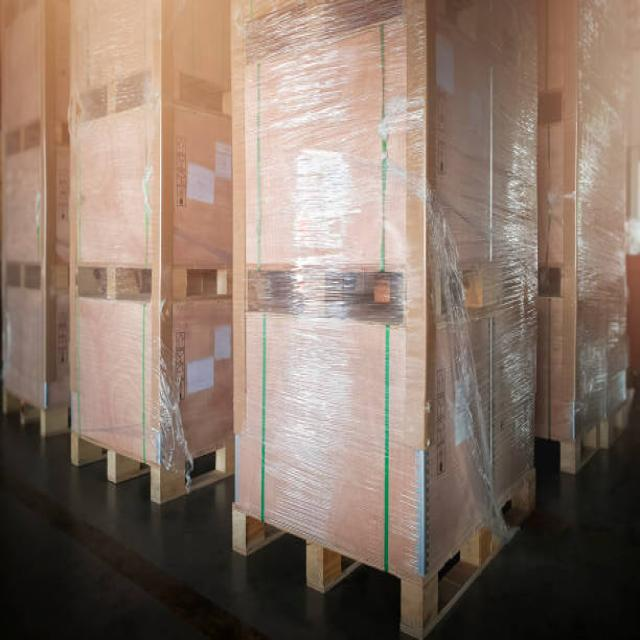Wooden-Pallets: (218, 469, 543, 640), (53, 420, 225, 511)
